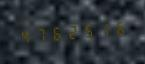five: (81, 19, 96, 41)
four: (17, 24, 32, 47)
one: (97, 17, 112, 40)
seven: (33, 23, 48, 46)
six: (113, 16, 128, 39), (49, 22, 64, 44)
two: (65, 20, 80, 43)
